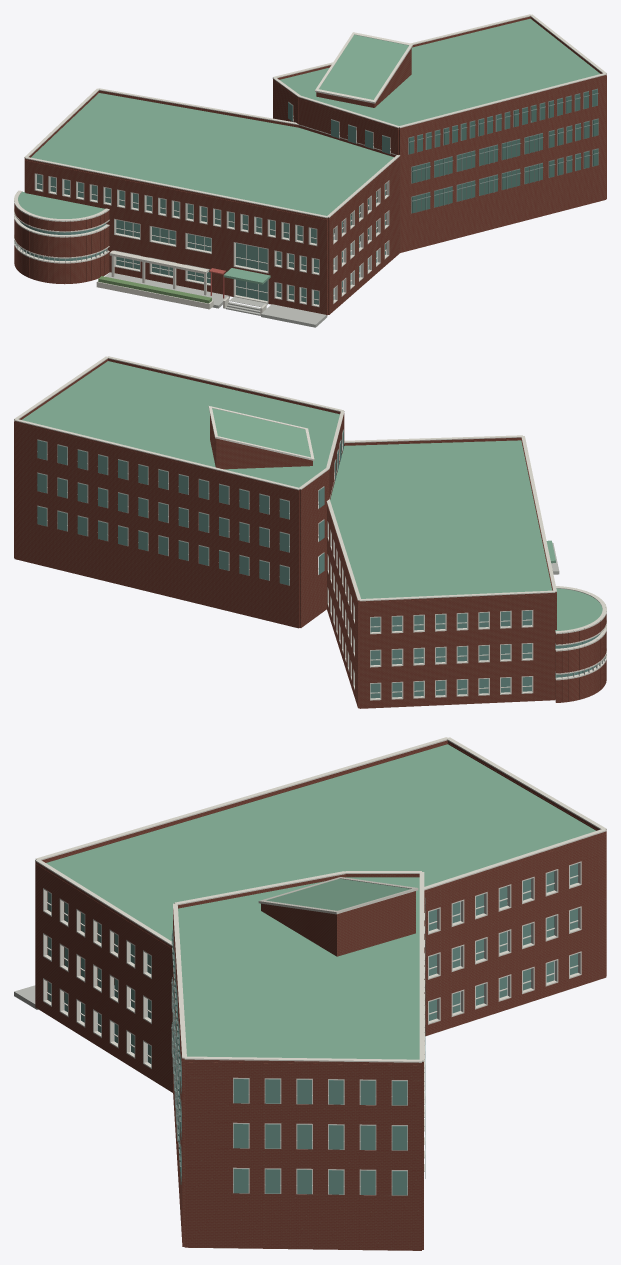
3 renders of one model, top to bottom at view 1: azimuth 30°, elevation 25°; view 2: azimuth 150°, elevation 25°; view 3: azimuth 270°, elevation 25°, orthographic. The views are drawn at different scales.
Parts seen in each view (by area): view 1: C11 front green roof, C11 raised rear wing face 2 wall, C11 lower front facade wall, C11 raised rear green roof, C11 raised rear wing face 2 recessed glass, C11 lower wing side 1 wall, C11 lower front facade recessed glass, C11 sloped stair-head green plane, C11 lower front facade reveal jamb, C11 raised rear wing face 3 wall, C11 pale front coping, C11 lower front facade reveal sill head (+20 smaller); view 2: C11 raised rear wing face 0 wall, C11 front green roof, C11 raised rear green roof, C11 lower wing side 4 wall, C11 raised rear wing face 0 recessed glass, C11 lower wing side 4 recessed glass, C11 raised rear wing face 4 wall, C11 lower wing side 3 wall, C11 sloped stair-head green plane, C11 raised pale coping, C11 pale front coping, C11 sloped stair-head brick body (+9 smaller); view 3: C11 front green roof, C11 raised rear wing face 1 wall, C11 raised rear green roof, C11 lower wing side 3 wall, C11 lower wing side 1 wall, C11 raised rear wing face 1 recessed glass, C11 sloped stair-head brick body, C11 pale front coping, C11 raised pale coping, C11 lower wing side 3 recessed glass, C11 lower wing side 1 reveal jamb, C11 lower wing side 3 reveal jamb (+11 smaller).
Part boxes in pixels (<box>): C11 front green roof: <box>31,93,393,215</box>; C11 raised rear wing face 2 wall: <box>399,76,606,252</box>; C11 lower front facade wall: <box>25,160,327,315</box>; C11 raised rear green roof: <box>280,18,600,125</box>; C11 raised rear wing face 2 recessed glass: <box>409,89,598,213</box>; C11 lower wing side 1 wall: <box>328,158,400,314</box>; C11 lower front facade recessed glass: <box>37,174,318,304</box>; C11 sloped stair-head green plane: <box>319,34,408,99</box>; C11 lower front facade reveal jamb: <box>34,173,319,307</box>; C11 raised rear wing face 3 wall: <box>298,99,398,248</box>; C11 pale front coping: <box>24,88,400,218</box>; C11 lower front facade reveal sill head: <box>35,173,319,307</box>; C11 raised rear wing face 0 wall: <box>14,423,299,628</box>; C11 front green roof: <box>330,440,552,598</box>; C11 raised rear green roof: <box>22,361,339,487</box>; C11 lower wing side 4 wall: <box>359,594,555,708</box>; C11 raised rear wing face 0 recessed glass: <box>37,440,289,585</box>; C11 lower wing side 4 recessed glass: <box>370,610,531,698</box>; C11 raised rear wing face 4 wall: <box>299,471,329,627</box>; C11 lower wing side 3 wall: <box>327,504,359,708</box>; C11 sloped stair-head green plane: <box>212,408,310,457</box>; C11 raised pale coping: <box>14,356,344,490</box>; C11 pale front coping: <box>326,435,556,601</box>; C11 sloped stair-head brick body: <box>210,414,312,469</box>; C11 front green roof: <box>46,744,595,941</box>; C11 raised rear wing face 1 wall: <box>184,1062,421,1250</box>; C11 raised rear green roof: <box>178,877,419,1059</box>; C11 lower wing side 3 wall: <box>424,834,606,1036</box>; C11 lower wing side 1 wall: <box>35,863,172,1092</box>; C11 raised rear wing face 1 recessed glass: <box>233,1079,407,1195</box>; C11 sloped stair-head brick body: <box>261,891,415,956</box>; C11 pale front coping: <box>35,737,606,945</box>; C11 raised pale coping: <box>173,871,424,1062</box>; C11 lower wing side 3 recessed glass: <box>429,863,577,1020</box>; C11 lower wing side 1 reveal jamb: <box>43,888,151,1068</box>; C11 lower wing side 3 reveal jamb: <box>428,862,581,1024</box>.
Size of the model in its own units: 65.61 by 18.99 by 42.98.
10 materials, 1 textured.
